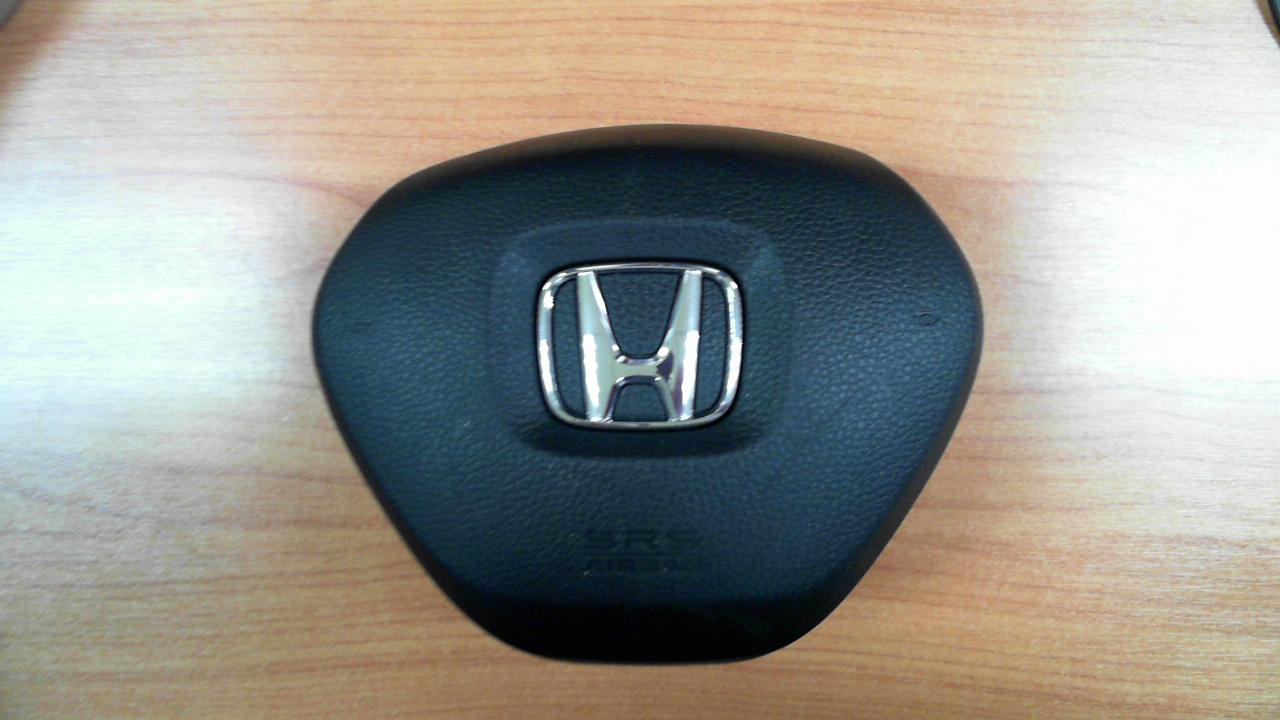Airbag: (312, 124, 983, 664)
